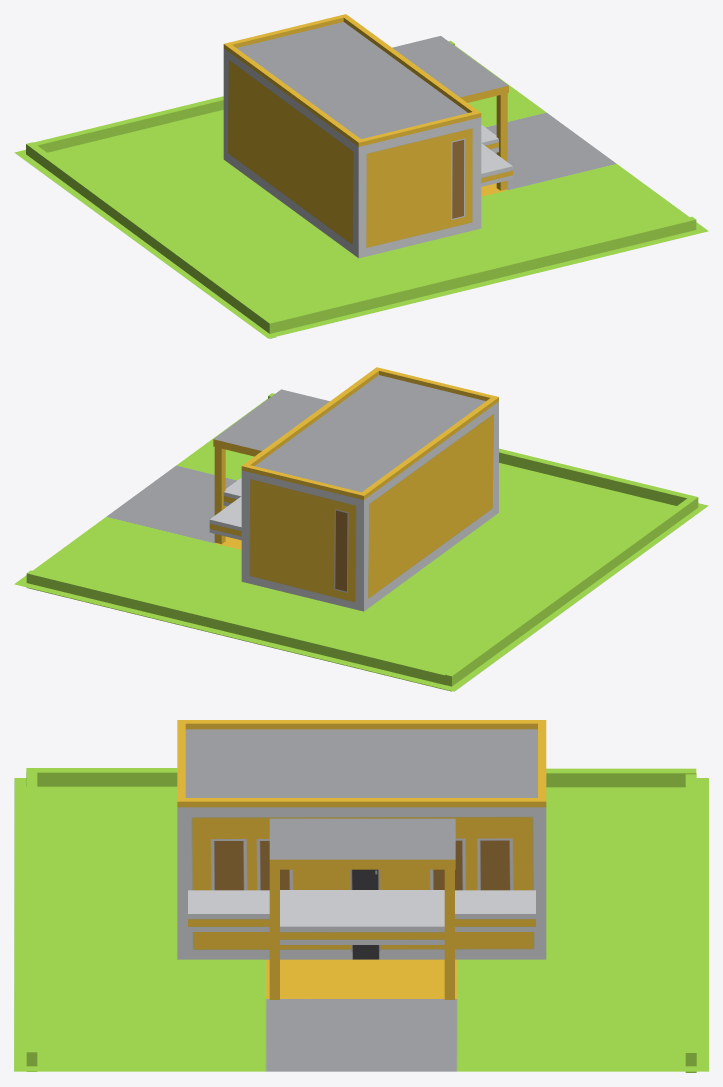
Rendered from 1maison_4.glb.
3 views of the same model, one above another, from view 1: azimuth 30°, elevation 25°; view 2: azimuth 150°, elevation 25°; view 3: azimuth 270°, elevation 25° (orthographic). The views are drawn at different scales.
Parts seen in each view (by area): view 1: Plan; view 2: Plan; view 3: Plan.
Part boxes in pixels (box(x1,y1,x2,y2)): Plan: box(14, 14, 708, 338); Plan: box(14, 367, 708, 691); Plan: box(14, 720, 708, 1072).
Bounding box in the file's own units: 15 × 4.16 × 15.
Materials: 1 (1 with a texture image).
